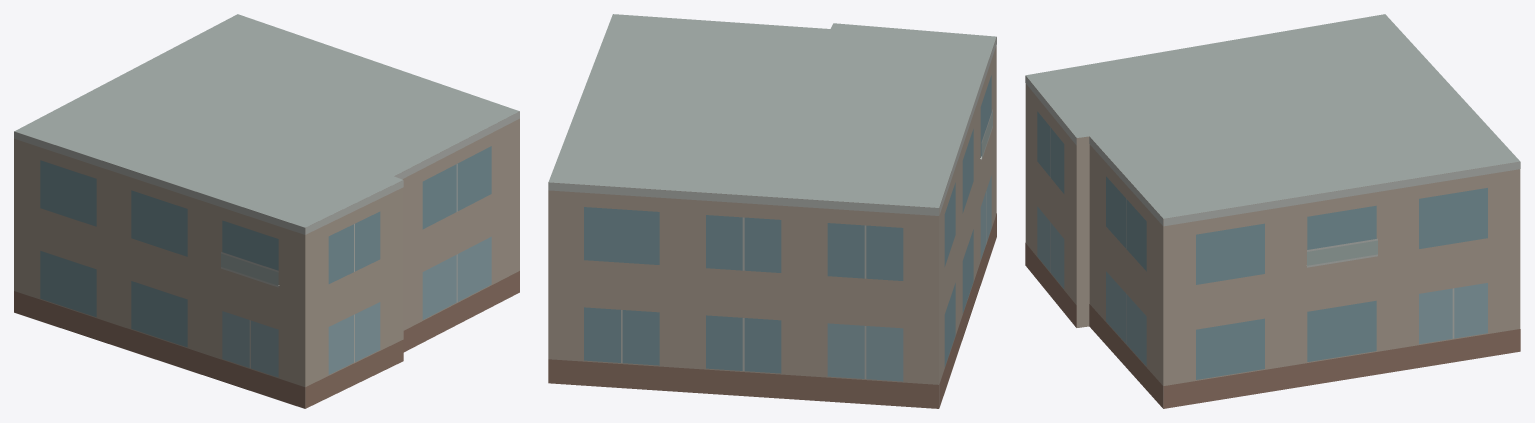
Rendered from survey-upis-32523310.glb.
3 views of the same model, side by side, from view 1: azimuth 30°, elevation 25°; view 2: azimuth 150°, elevation 25°; view 3: azimuth 270°, elevation 25° (orthographic). The views are drawn at different scales.
Parts seen in each view (by area): view 1: survey-upis-32523310.tmp; view 2: survey-upis-32523310.tmp; view 3: survey-upis-32523310.tmp.
Boxes of the visible parts, x1,y1,x2,y2 form: survey-upis-32523310.tmp: (14, 14, 519, 408); survey-upis-32523310.tmp: (548, 14, 996, 408); survey-upis-32523310.tmp: (1025, 14, 1520, 408).
Bounding box in the file's own units: 14.11 × 6.1 × 14.41.
